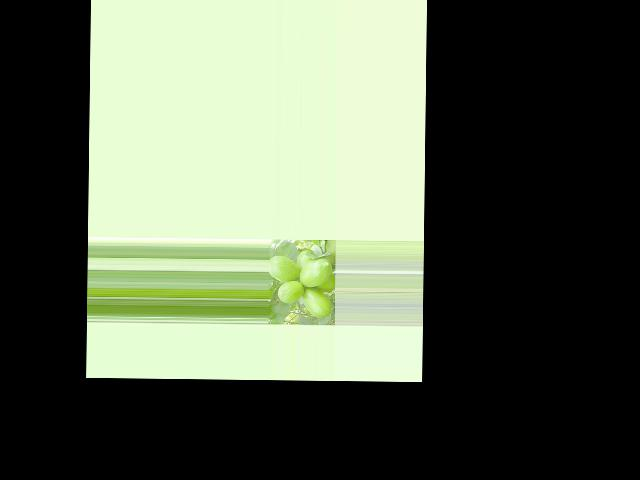lemon: (301, 286, 331, 319)
